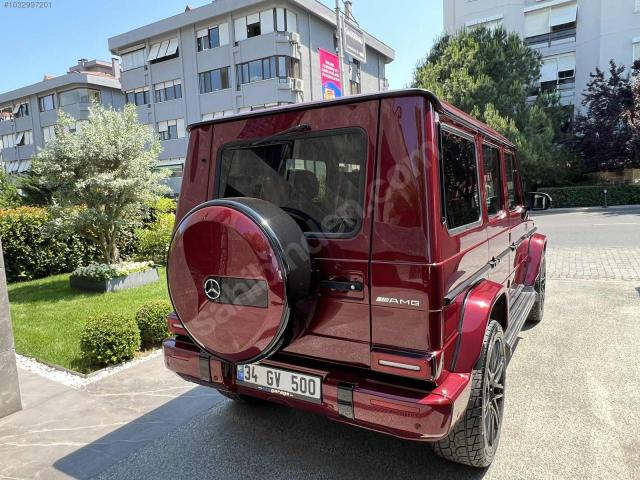plaka: (236, 363, 321, 404)
